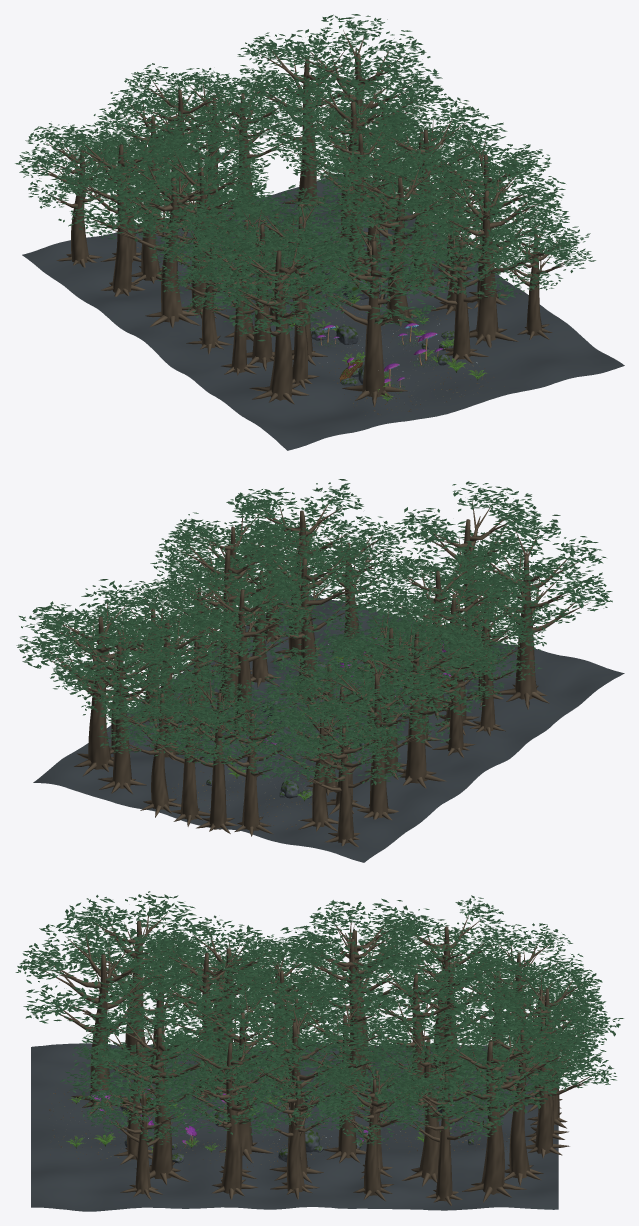
The model's file is enchanted-forest-blue-mist.glb.
3 renders of one model, top to bottom at view 1: azimuth 30°, elevation 25°; view 2: azimuth 150°, elevation 25°; view 3: azimuth 270°, elevation 25°, orthographic.
Parts seen in each view (by area): view 1: Undulating_Forest_Floor.004, Ancient_Tree_Leaves.155, Ancient_Tree_Leaves.162, Ancient_Tree_Leaves.164, Ancient_Tree_Leaves.185, Ancient_Tree_Leaves.174, Ancient_Tree_Leaves.158, Ancient_Tree_Leaves.180, Ancient_Tree_Leaves.172, Ancient_Tree_Leaves.178, Ancient_Tree_Leaves.184, Ancient_Tree_Leaves.169 (+50 smaller); view 2: Undulating_Forest_Floor.004, Ancient_Tree_Leaves.162, Ancient_Tree_Leaves.185, Ancient_Tree_Leaves.155, Ancient_Tree_Leaves.174, Ancient_Tree_Leaves.158, Ancient_Tree_Leaves.178, Ancient_Tree_Leaves.164, Ancient_Tree_Leaves.172, Ancient_Tree_Leaves.184, Ancient_Tree_Leaves.160, Ancient_Tree_Leaves.180 (+51 smaller); view 3: Undulating_Forest_Floor.004, Ancient_Tree_Leaves.185, Ancient_Tree_Leaves.155, Ancient_Tree_Leaves.164, Ancient_Tree_Leaves.162, Ancient_Tree_Leaves.172, Ancient_Tree_Leaves.169, Ancient_Tree_Leaves.174, Ancient_Tree_Leaves.180, Ancient_Tree_Leaves.175, Ancient_Tree_Leaves.184, Ancient_Tree_Leaves.178 (+55 smaller).
Boxes of the visible parts, x1,y1,x2,y2 form: Undulating_Forest_Floor.004: [22, 175, 624, 450]; Ancient_Tree_Leaves.155: [283, 204, 448, 325]; Ancient_Tree_Leaves.162: [205, 222, 369, 341]; Ancient_Tree_Leaves.164: [414, 150, 579, 270]; Ancient_Tree_Leaves.185: [273, 14, 454, 131]; Ancient_Tree_Leaves.174: [76, 138, 248, 247]; Ancient_Tree_Leaves.158: [324, 143, 472, 261]; Ancient_Tree_Leaves.180: [258, 63, 426, 169]; Ancient_Tree_Leaves.172: [341, 97, 504, 215]; Ancient_Tree_Leaves.178: [48, 118, 197, 232]; Ancient_Tree_Leaves.184: [235, 32, 389, 144]; Ancient_Tree_Leaves.169: [407, 122, 566, 231]; Undulating_Forest_Floor.004: [33, 595, 624, 862]; Ancient_Tree_Leaves.162: [444, 514, 612, 631]; Ancient_Tree_Leaves.185: [16, 579, 176, 704]; Ancient_Tree_Leaves.155: [393, 481, 544, 611]; Ancient_Tree_Leaves.174: [333, 611, 497, 715]; Ancient_Tree_Leaves.158: [232, 531, 386, 641]; Ancient_Tree_Leaves.178: [305, 642, 450, 748]; Ancient_Tree_Leaves.164: [223, 479, 374, 589]; Ancient_Tree_Leaves.172: [152, 523, 311, 642]; Ancient_Tree_Leaves.184: [50, 609, 194, 717]; Ancient_Tree_Leaves.160: [172, 565, 320, 673]; Ancient_Tree_Leaves.180: [85, 590, 246, 692]; Undulating_Forest_Floor.004: [31, 1043, 558, 1211]; Ancient_Tree_Leaves.185: [421, 1007, 578, 1133]; Ancient_Tree_Leaves.155: [15, 916, 186, 1032]; Ancient_Tree_Leaves.164: [73, 1000, 242, 1112]; Ancient_Tree_Leaves.162: [64, 891, 216, 1004]; Ancient_Tree_Leaves.172: [220, 987, 374, 1102]; Ancient_Tree_Leaves.169: [157, 1014, 303, 1134]; Ancient_Tree_Leaves.174: [280, 898, 429, 1010]; Ancient_Tree_Leaves.180: [355, 1008, 501, 1120]; Ancient_Tree_Leaves.175: [279, 907, 433, 1027]; Ancient_Tree_Leaves.184: [448, 1001, 594, 1111]; Ancient_Tree_Leaves.178: [369, 895, 520, 1008].
Size of the model in its own units: 26.95 by 10.62 by 34.75.
